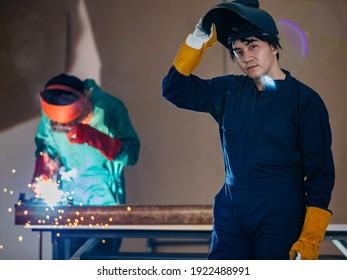gloves: (173, 16, 217, 76), (287, 204, 333, 258), (65, 121, 120, 160), (29, 154, 55, 184)
